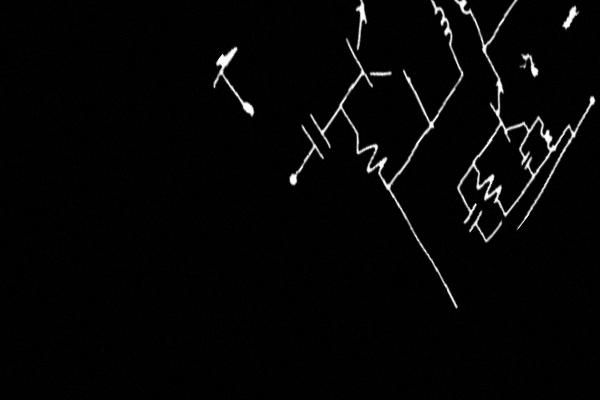capacitor: (291, 101, 344, 170), (455, 193, 491, 241), (514, 143, 539, 175)
ground: (202, 37, 251, 99)
inductor: (418, 0, 471, 58), (424, 0, 491, 32), (530, 114, 565, 159)
resistor: (337, 109, 402, 193), (461, 149, 518, 223)
